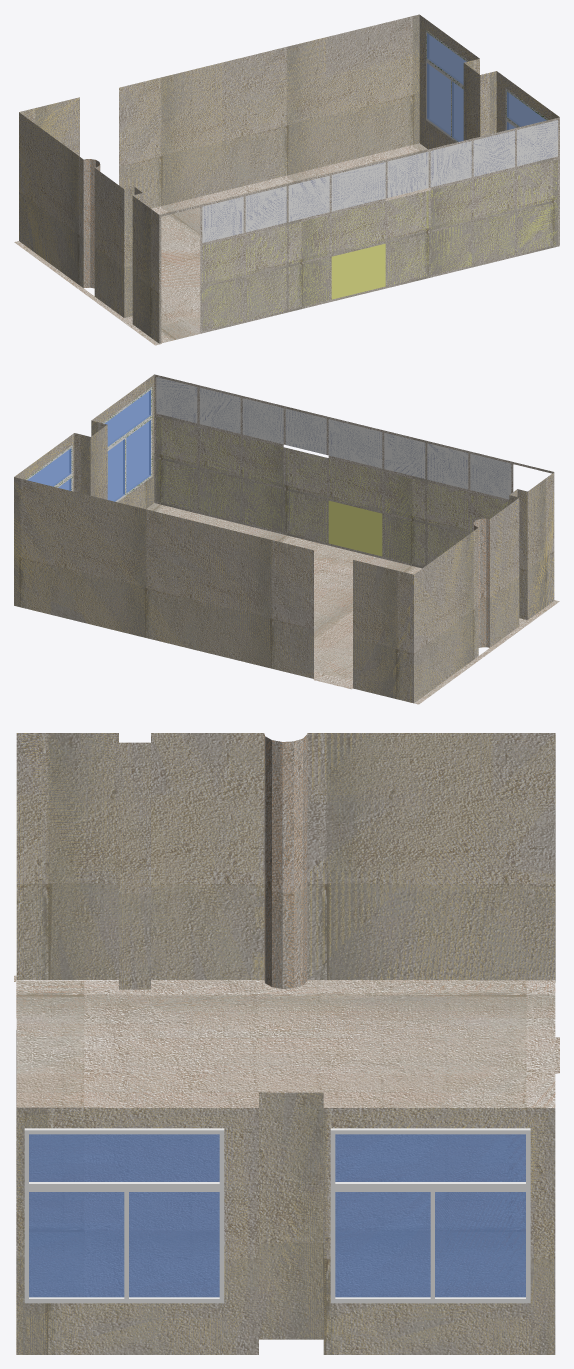
File: LAB012.obj
3 renders of one model, top to bottom at view 1: azimuth 30°, elevation 25°; view 2: azimuth 150°, elevation 25°; view 3: azimuth 270°, elevation 25°, orthographic. The views are drawn at different scales.
Visible parts, largest first — view 1: Mesh13 LAB012 Model, Mesh7 ventana1_2 LAB012 Model, Mesh1 ventana1_1 LAB012 Model; view 2: Mesh13 LAB012 Model, Mesh1 ventana1_1 LAB012 Model, Mesh7 ventana1_2 LAB012 Model; view 3: Mesh13 LAB012 Model, Mesh7 ventana1_2 LAB012 Model, Mesh1 ventana1_1 LAB012 Model.
Boxes of the visible parts, x1,y1,x2,y2 form: Mesh13 LAB012 Model: [14, 14, 559, 345]; Mesh7 ventana1_2 LAB012 Model: [426, 30, 468, 142]; Mesh1 ventana1_1 LAB012 Model: [505, 88, 548, 130]; Mesh13 LAB012 Model: [14, 374, 559, 704]; Mesh1 ventana1_1 LAB012 Model: [102, 387, 152, 502]; Mesh7 ventana1_2 LAB012 Model: [25, 445, 72, 491]; Mesh13 LAB012 Model: [14, 733, 559, 1354]; Mesh7 ventana1_2 LAB012 Model: [330, 1128, 530, 1303]; Mesh1 ventana1_1 LAB012 Model: [24, 1128, 224, 1303].
Size of the model in its own units: 9.93 by 3 by 6.01.
Materials: 10 (2 with a texture image).
